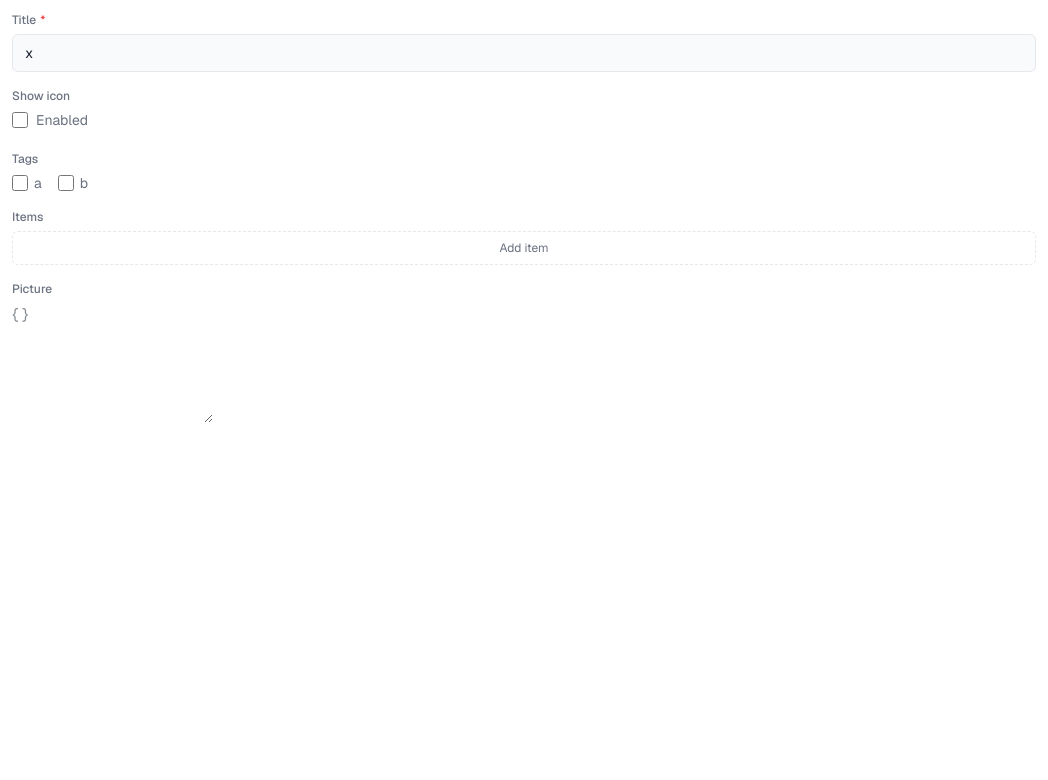
it: SchemaForm › hides showIf fields until the condition holds and groups the rest
Expected: the field labelled "Icon name" is not shown
Click the checkbox named "Enabled" at (20,120), box [12,112,28,128]
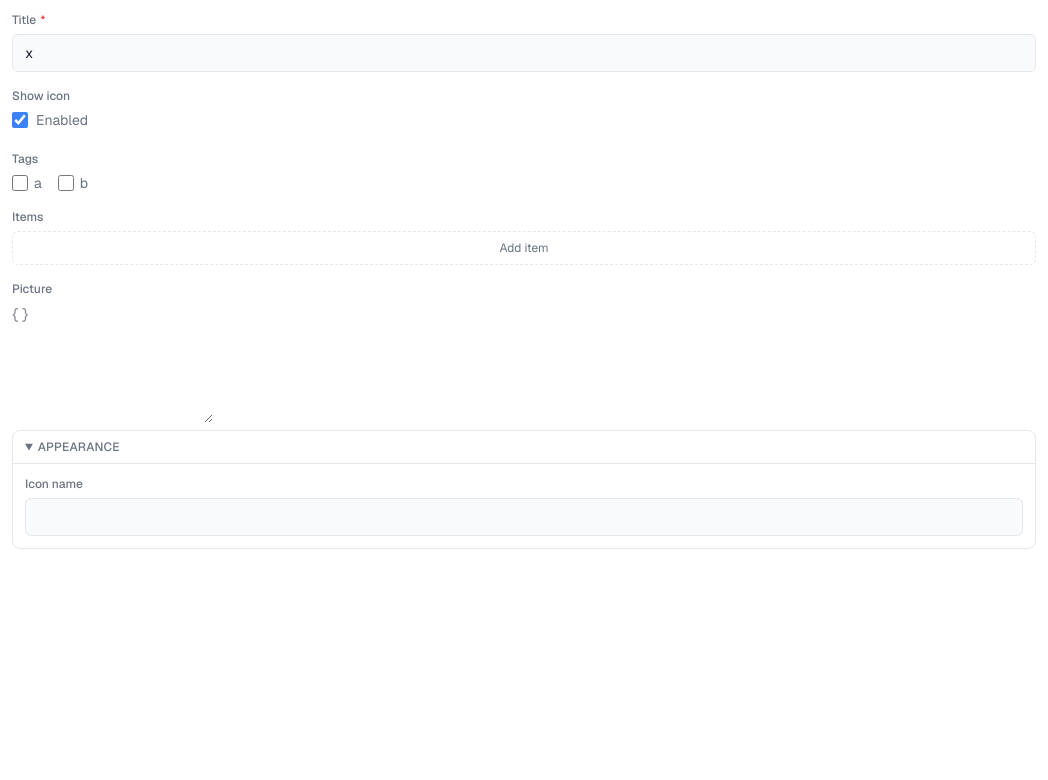
Expected: the field labelled "Icon name" is shown, [25,498,1023,536]
Expected: the heading "Appearance" is shown, [38,439,120,455]
